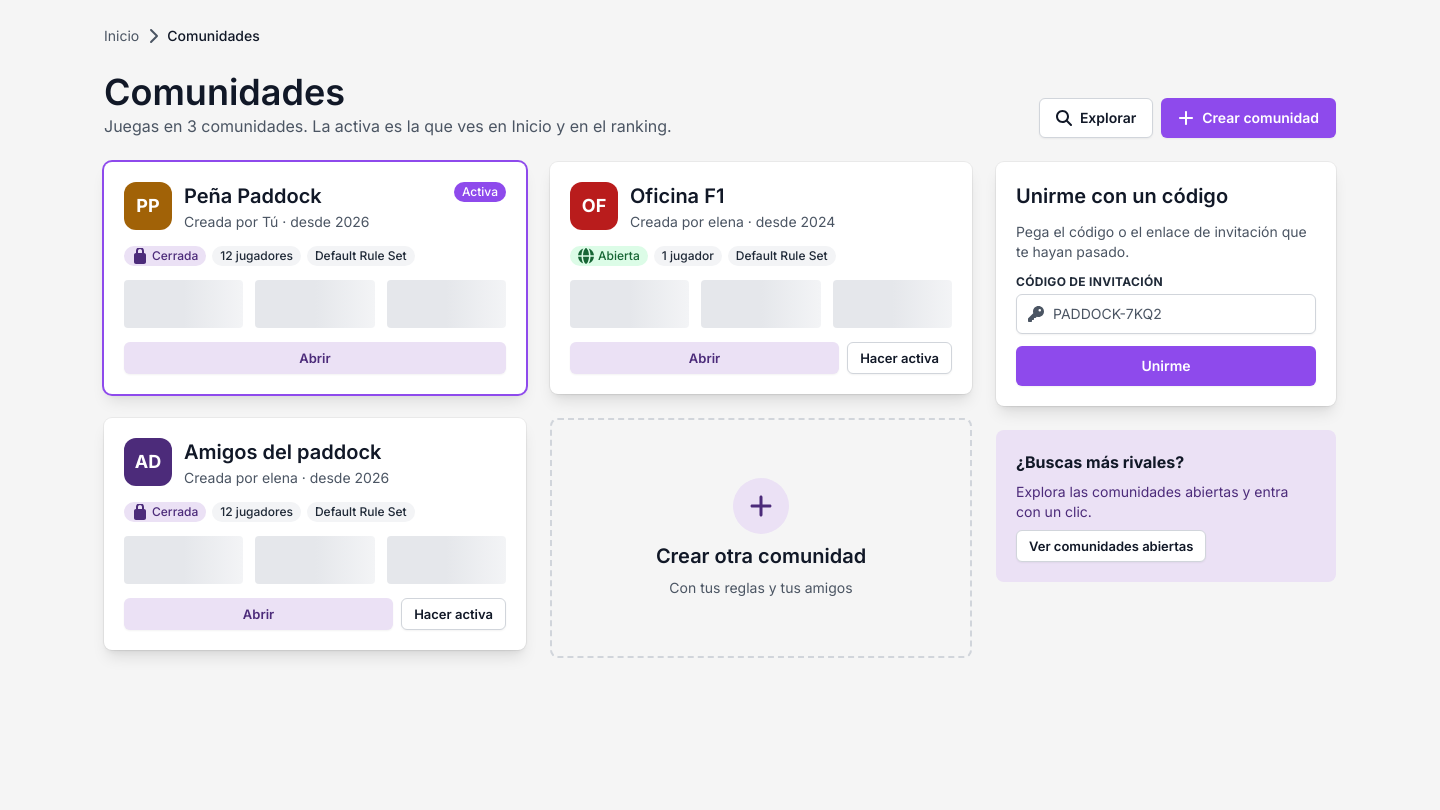
Unirme con un código › rejects an unknown code and clears the error when typing
Step 1. Type "NOPE" into the field labelled "Código de invitación" → (1166, 314), box [1016,294,1316,334]
Then press Enter
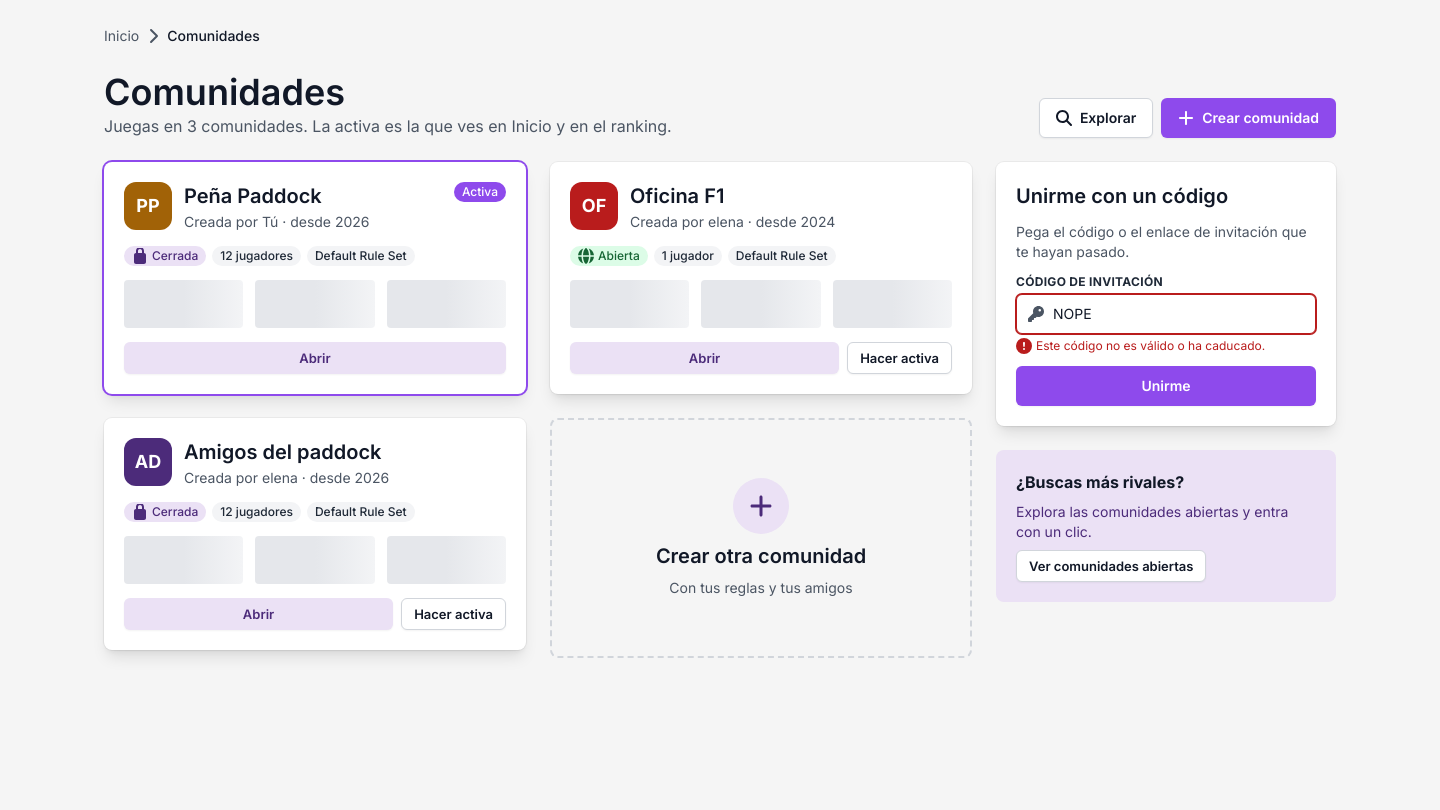
Expected: the field labelled "Código de invitación" is marked as invalid
Step 2. Type "x" into the field labelled "Código de invitación" → (1166, 314), box [1016,294,1316,334]
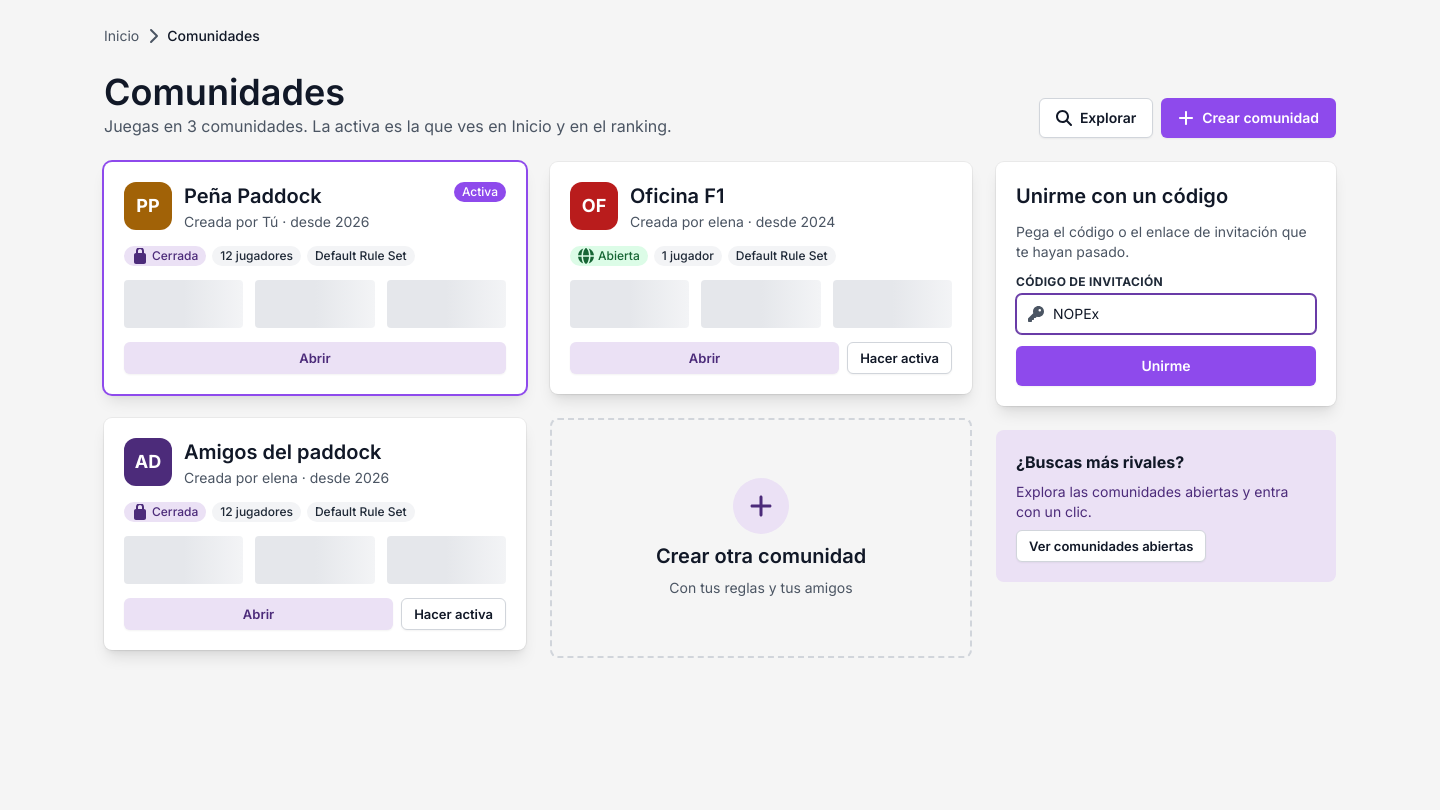
Expected: the text "Este código no es válido o ha caducado." is gone
